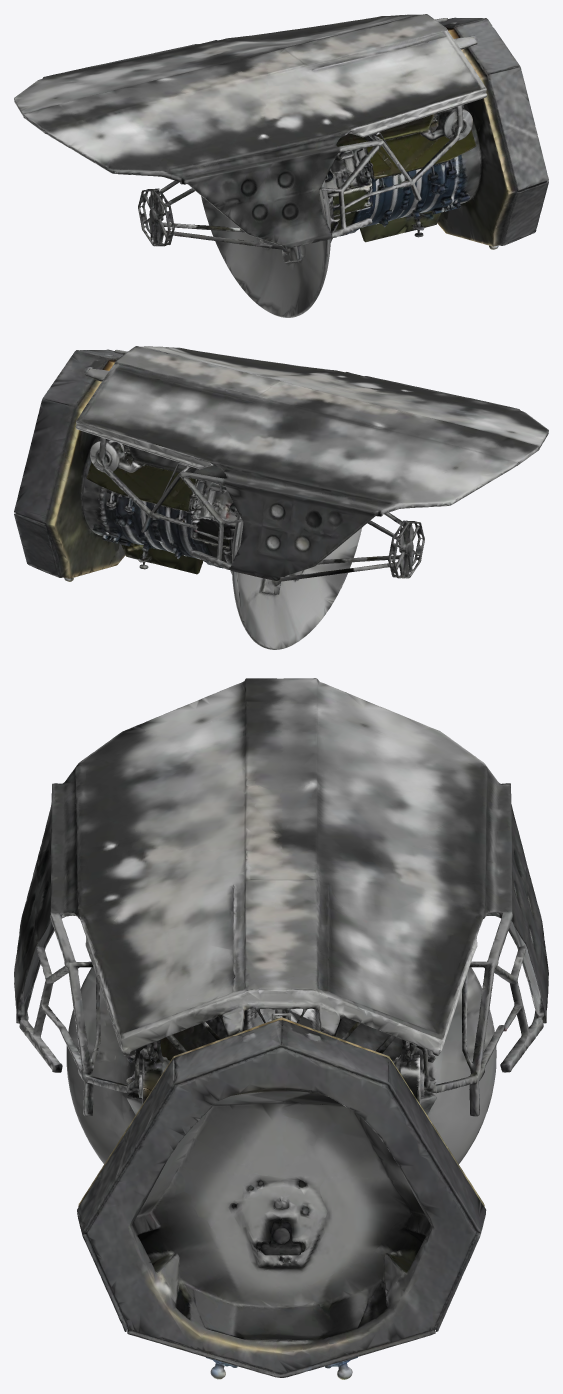
File: herschel.glb
The picture shows the model from 3 angles, top to bottom: view 1: azimuth 30°, elevation 25°; view 2: azimuth 150°, elevation 25°; view 3: azimuth 270°, elevation 25°; orthographic projection. The views are drawn at different scales.
Bounding box in the file's own units: 1.9 × 0.9791 × 1.21.
1 material, 1 textured.
